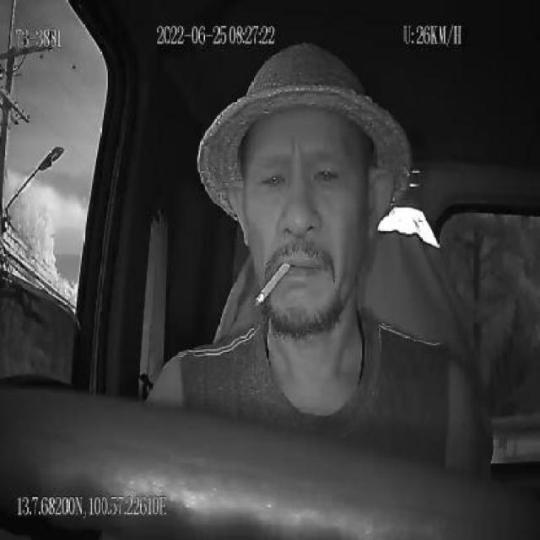smoking: (255, 256, 293, 306)
